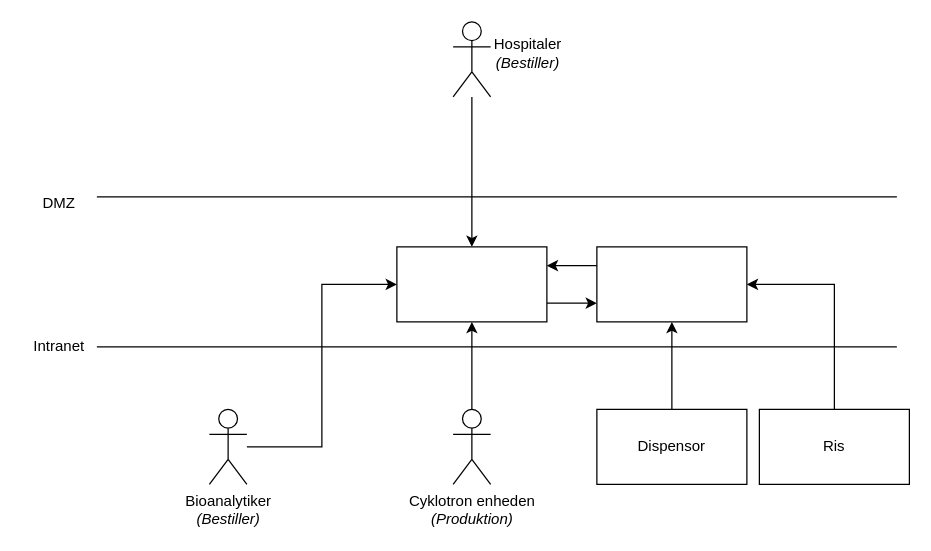
This 931x551 diagram has some shape labels left out. Each missing label, with the box of its shape:
Database: (596, 246, 747, 322)
Tracershop: (396, 246, 547, 322)
